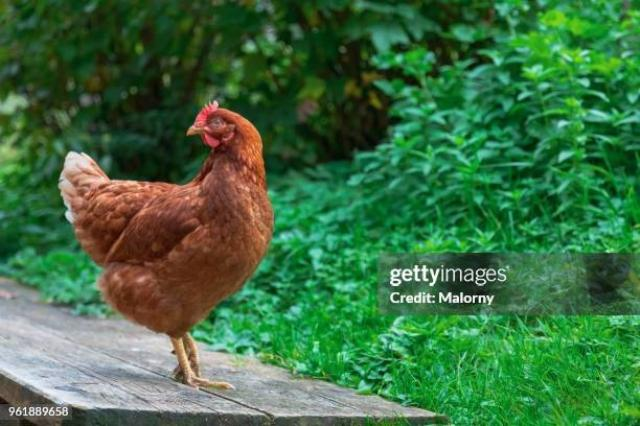Chicken: (62, 103, 275, 392)
